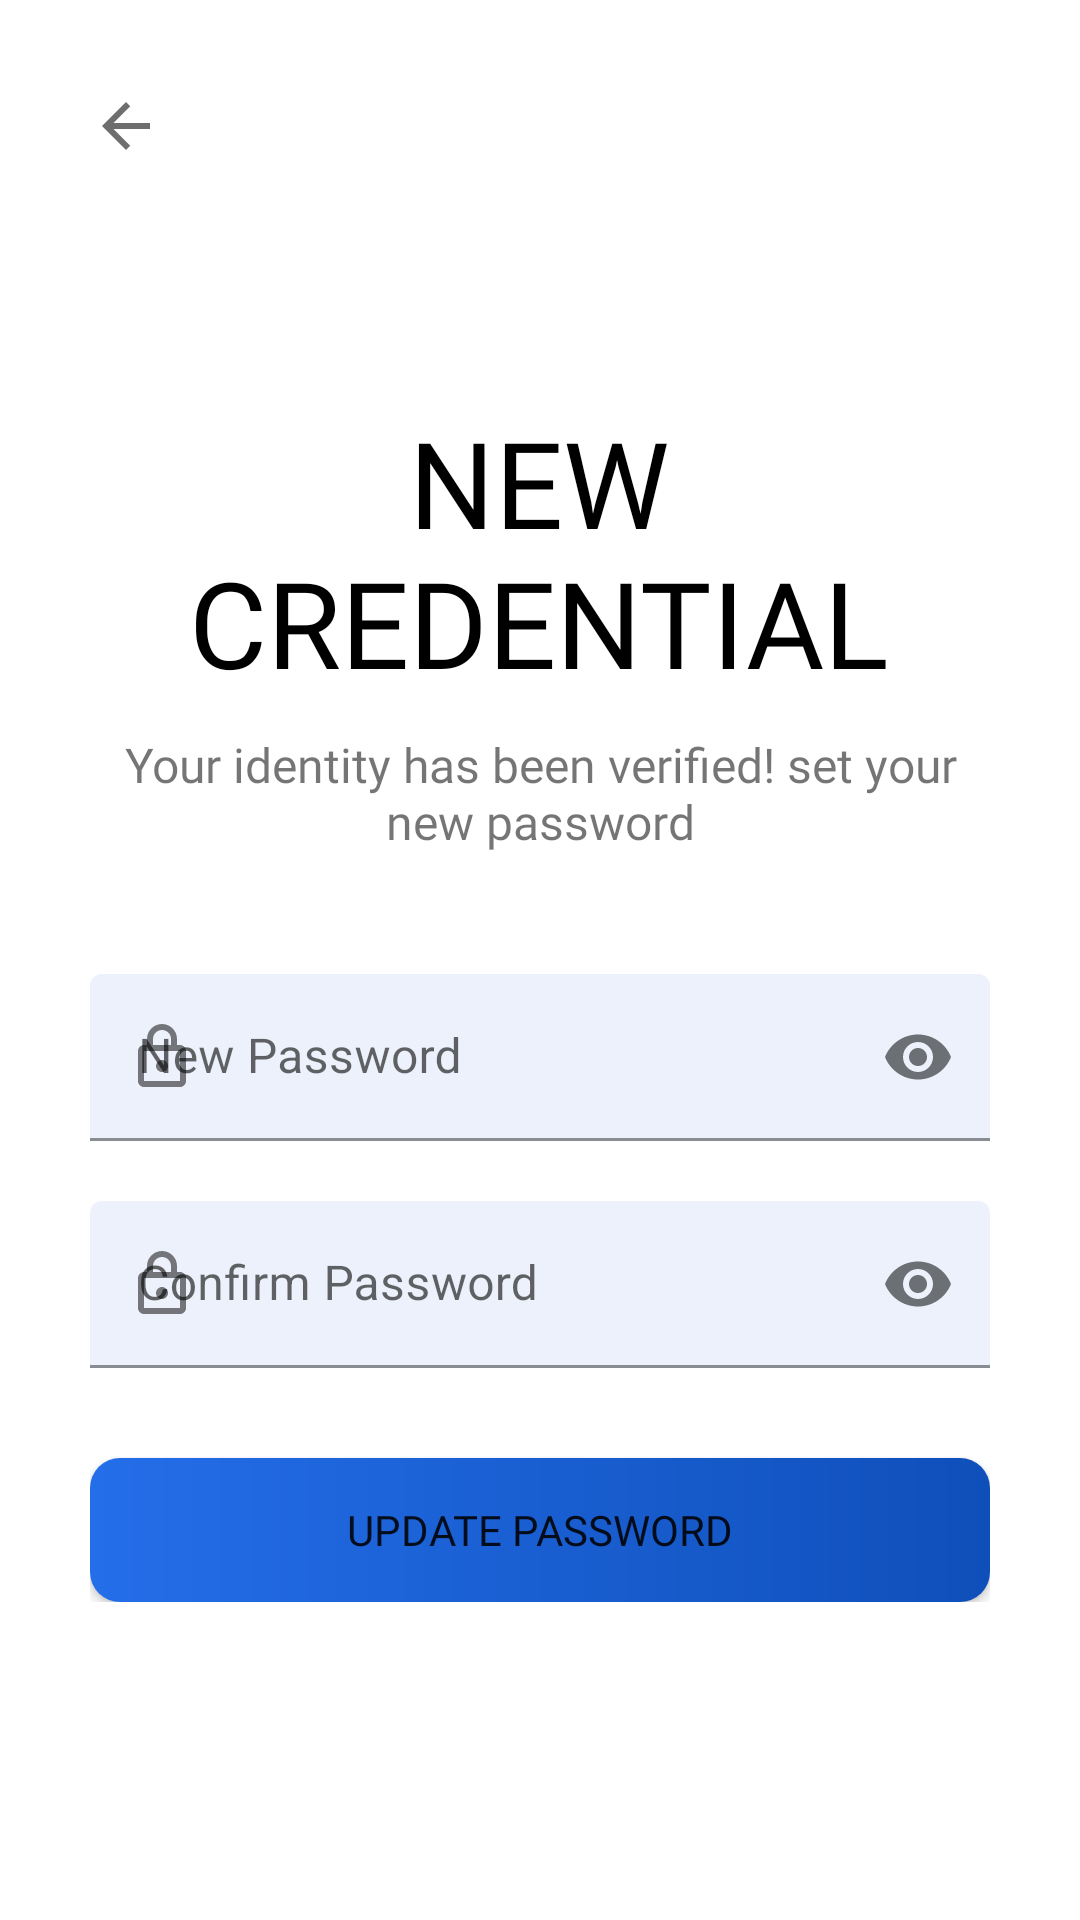

Icons on this 1080*1920 Android screen, each with its box as [x1, y1, x2, y2]:
arrow back: [102, 102, 150, 150]
